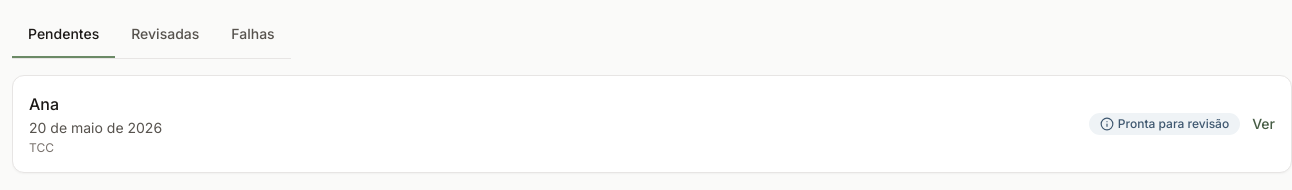
Test: TranscriptionsTabs — filtering › switching to "Revisadas" shows only reviewed rows
Click the tab with test id "tab-reviewed".
click(165, 35)  # box x1=115 y1=12 x2=215 y2=58
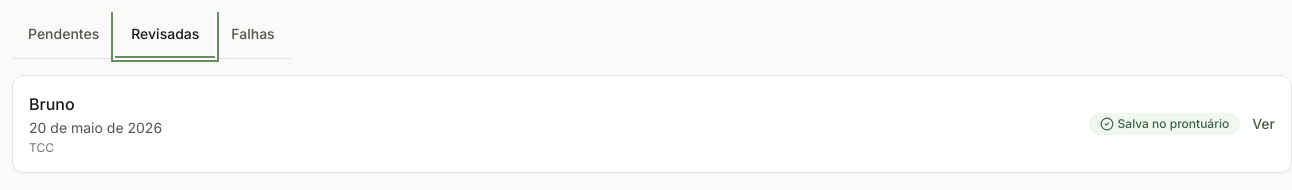
Check: the text "Bruno" is shown, box x1=29 y1=94 x2=75 y2=114
Check: the link "Ana" is gone
